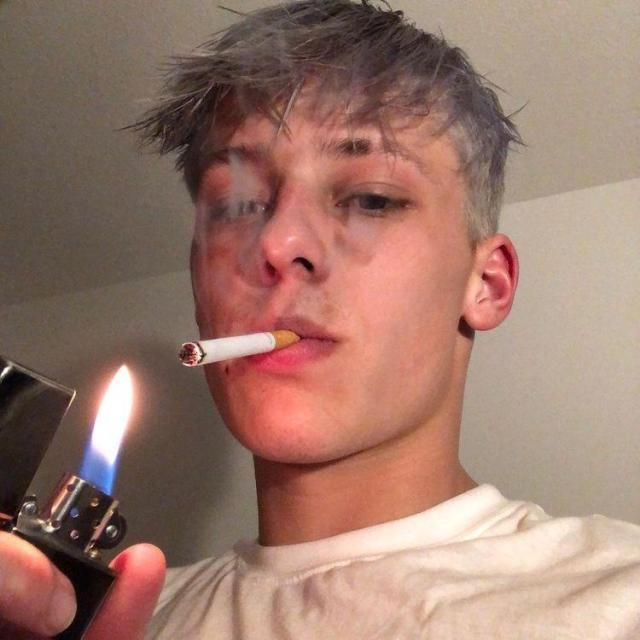cigarette: (151, 327, 332, 389)
